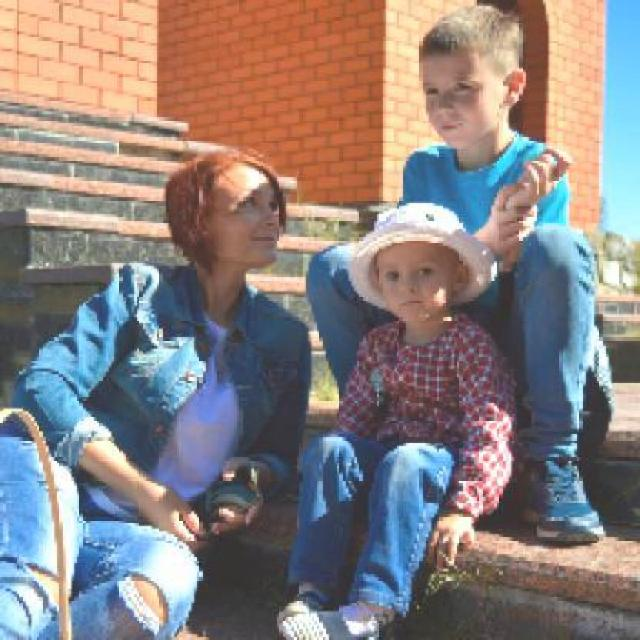child: (271, 202, 520, 638)
